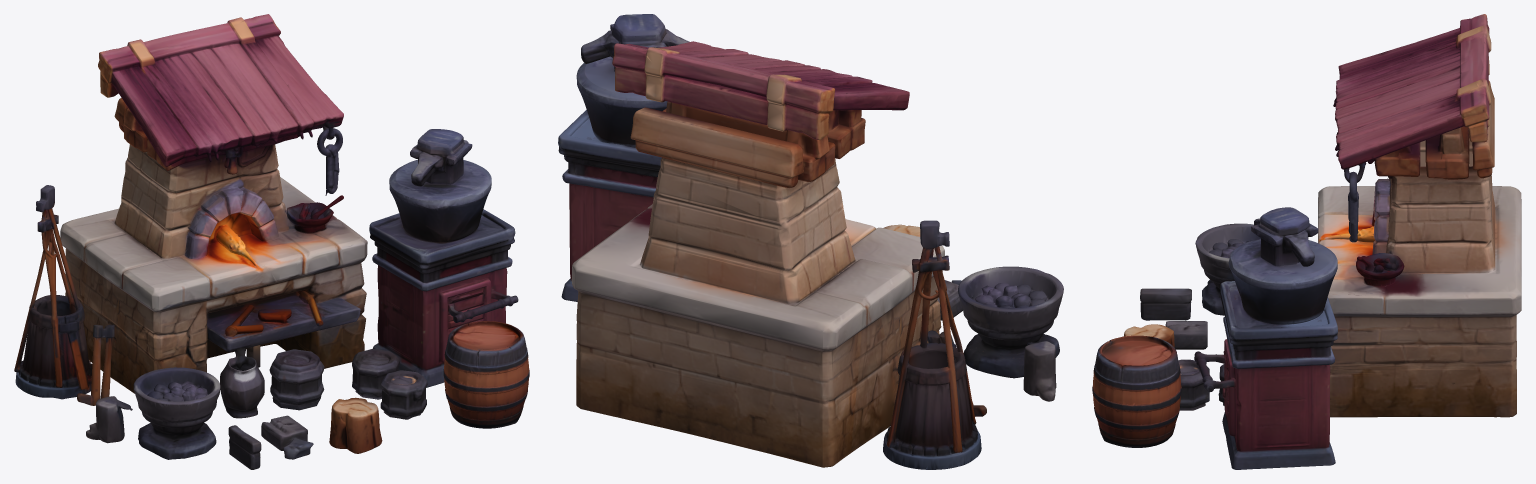
Rendered from blacksmith.glb.
3 views of the same model, side by side, from view 1: azimuth 30°, elevation 25°; view 2: azimuth 150°, elevation 25°; view 3: azimuth 270°, elevation 25° (orthographic). The views are drawn at different scales.
Parts seen in each view (by area): view 1: material; view 2: material; view 3: material.
Part boxes in pixels (bbox=[...]): material: bbox=[14, 14, 529, 469]; material: bbox=[558, 14, 1063, 469]; material: bbox=[1092, 14, 1521, 469].
Bounding box in the file's own units: 0.8802 × 0.6316 × 0.7876.
Materials: 1 (1 with a texture image).
